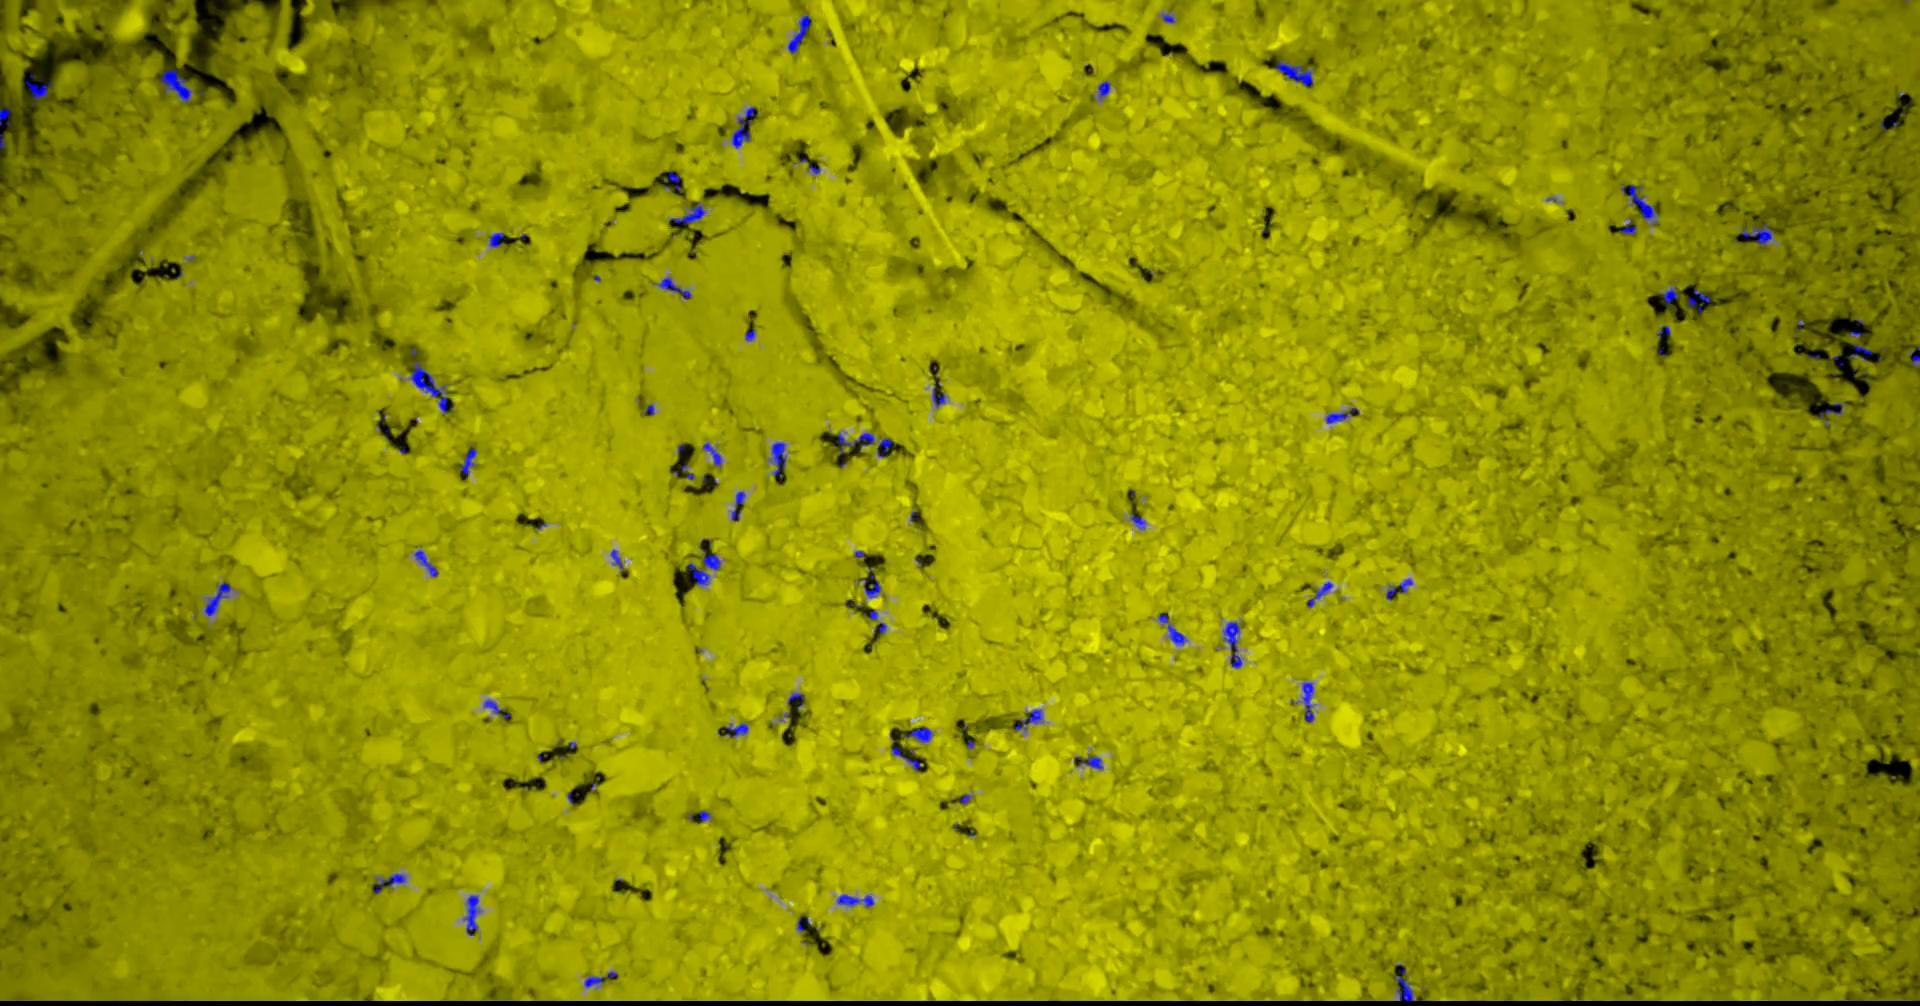ant: (409, 361, 452, 412), (1620, 184, 1657, 224), (687, 550, 720, 586), (1394, 964, 1425, 1002), (159, 69, 190, 102), (1275, 58, 1312, 86), (731, 105, 754, 147), (203, 582, 230, 615), (787, 15, 810, 53), (1222, 621, 1241, 667), (1158, 614, 1186, 644), (891, 739, 919, 770), (836, 432, 872, 453), (25, 72, 51, 103), (669, 202, 703, 224), (1740, 224, 1773, 245), (657, 277, 690, 298), (1305, 580, 1332, 607), (857, 567, 880, 597), (373, 873, 405, 893), (414, 549, 437, 575), (1015, 709, 1043, 730), (463, 895, 479, 935), (1385, 578, 1412, 600), (483, 699, 510, 719), (1324, 406, 1359, 423), (583, 970, 617, 987), (458, 446, 476, 478), (770, 442, 785, 478), (1688, 290, 1710, 311), (702, 442, 721, 467), (1302, 682, 1313, 721), (904, 727, 932, 742), (836, 894, 872, 906), (1818, 401, 1843, 418), (876, 437, 895, 457), (1849, 343, 1872, 359), (1076, 754, 1102, 768), (932, 379, 945, 406), (731, 492, 744, 520), (1092, 80, 1110, 99), (663, 171, 681, 191), (724, 723, 748, 737), (1618, 218, 1636, 234), (610, 549, 622, 569), (1662, 287, 1677, 304), (1130, 513, 1145, 528), (1909, 345, 1919, 367), (489, 232, 504, 246), (0, 107, 10, 126)
